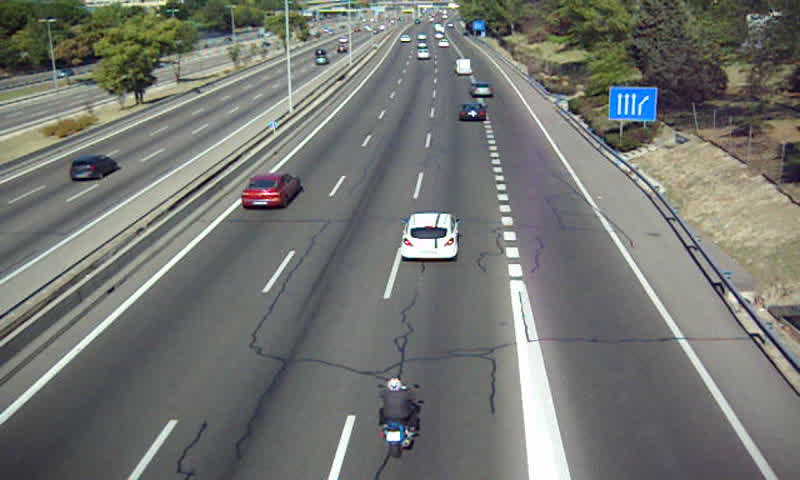car: (400, 212, 459, 259), (241, 174, 300, 210), (457, 102, 489, 122), (470, 81, 494, 98)
motorcycle: (375, 378, 421, 457)
van: (455, 58, 473, 75)
